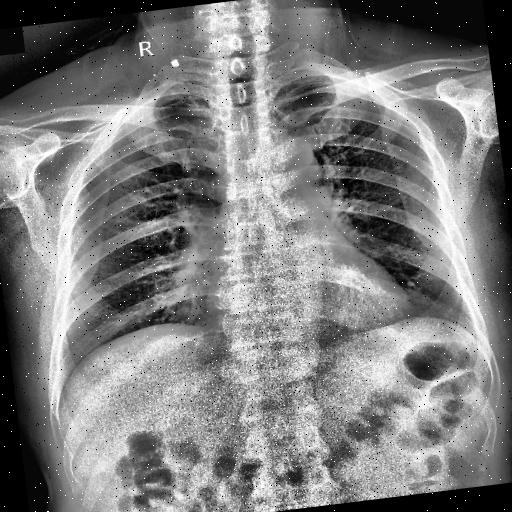0- Aortic enlargement: (254, 128, 326, 200), (248, 130, 318, 189)
11- Pleural thickening: (162, 90, 204, 104), (286, 75, 322, 87)
9- Other lesion: (171, 59, 181, 68), (150, 72, 158, 79)
